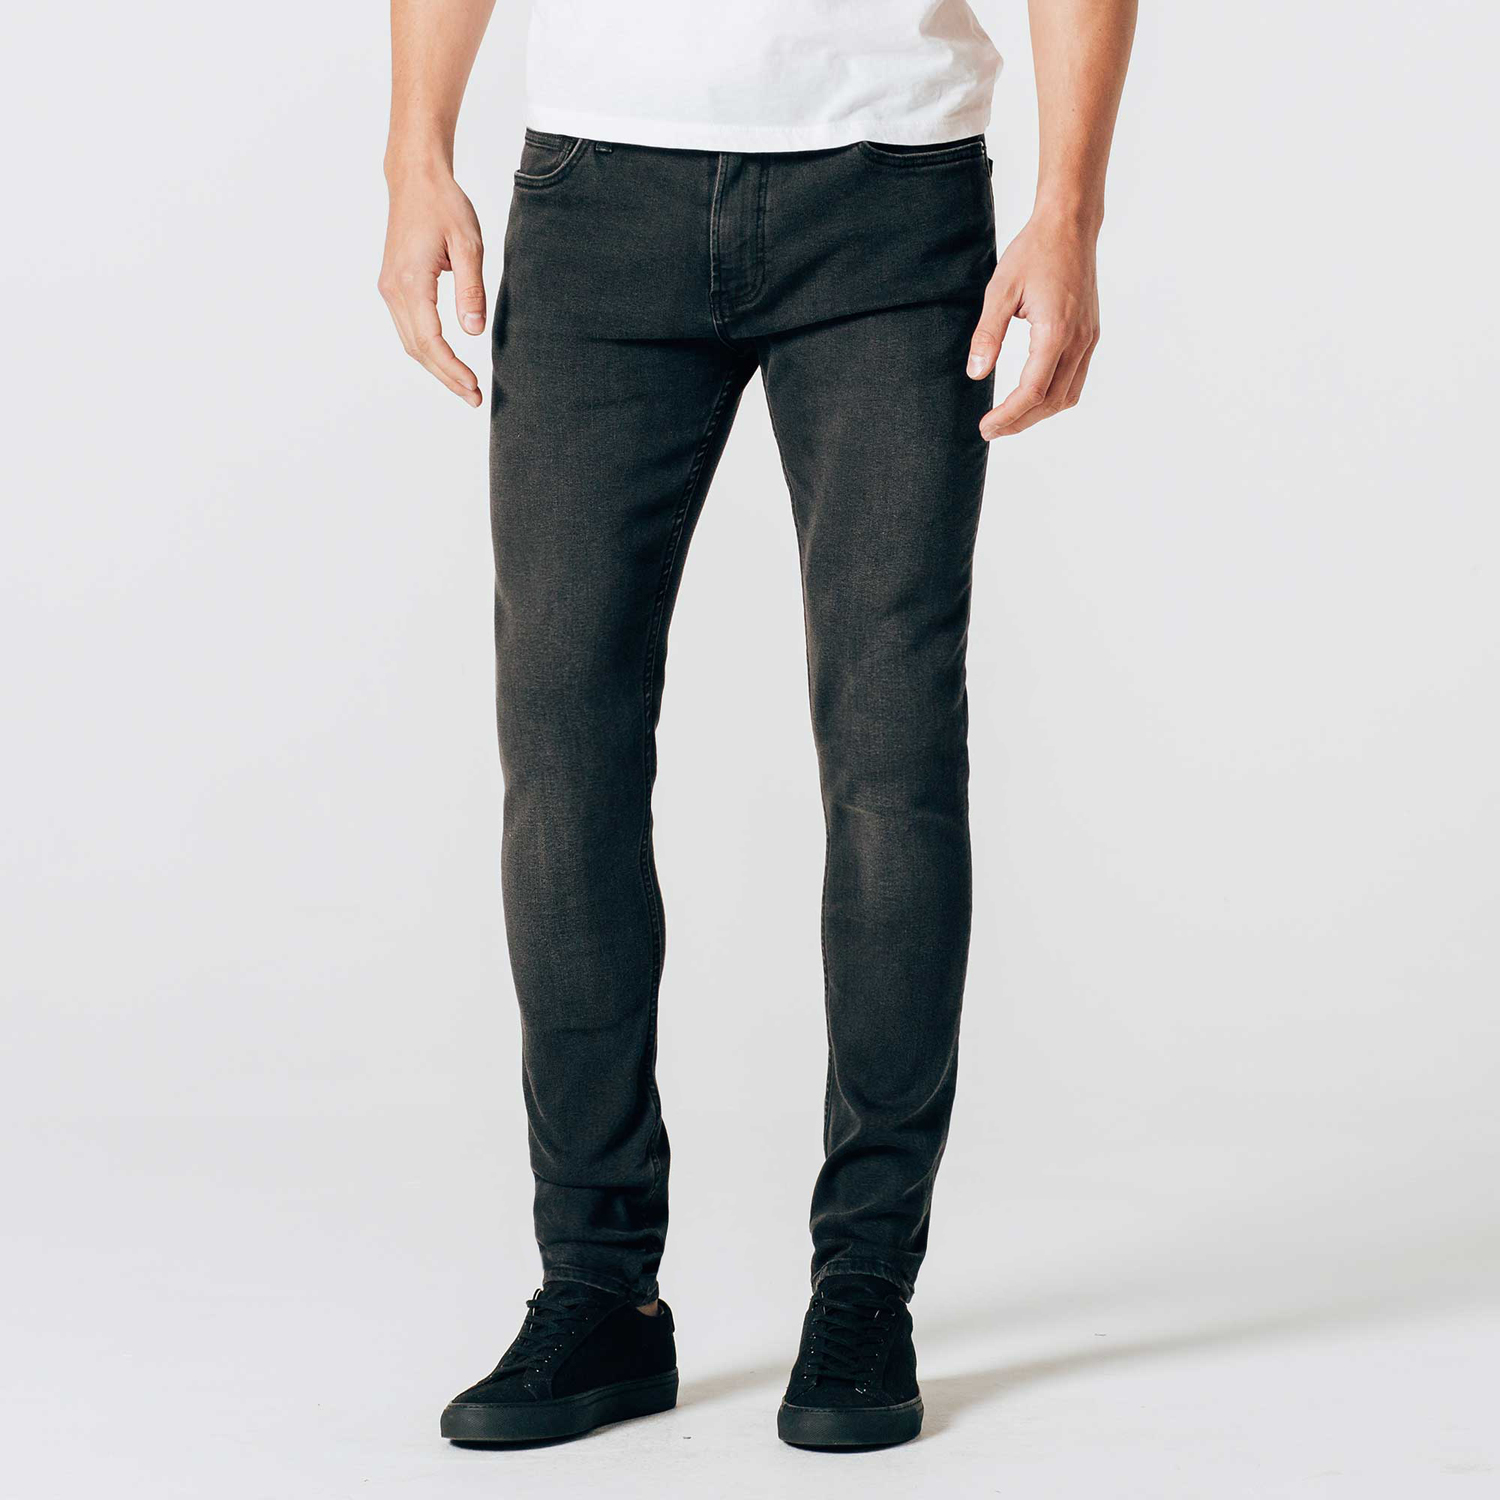Jeans: (470, 132, 1007, 1319)
